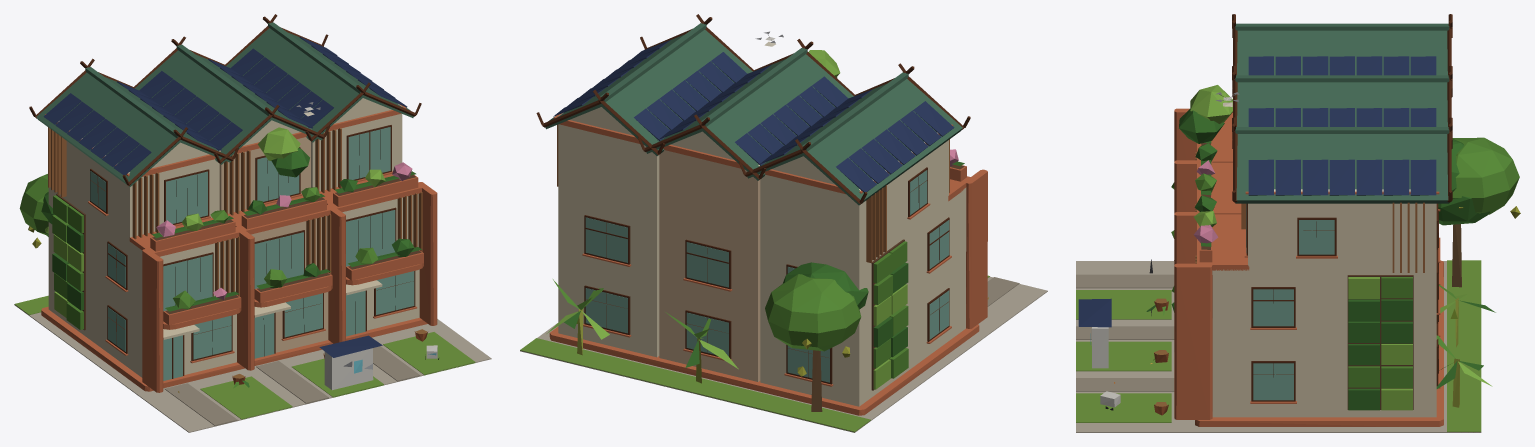
Rendered from home_3.glb.
The picture shows the model from 3 angles, left to right: view 1: azimuth 30°, elevation 25°; view 2: azimuth 150°, elevation 25°; view 3: azimuth 270°, elevation 25°; orthographic projection. The views are drawn at different scales.
Visible parts, largest first — view 1: body; view 2: body; view 3: body.
Boxes of the visible parts, x1,y1,x2,y2 form: body: (14,14,491,432); body: (520,14,1047,432); body: (1076,14,1520,432).
Size of the model in its own units: 15.9 by 12.46 by 17.45.
